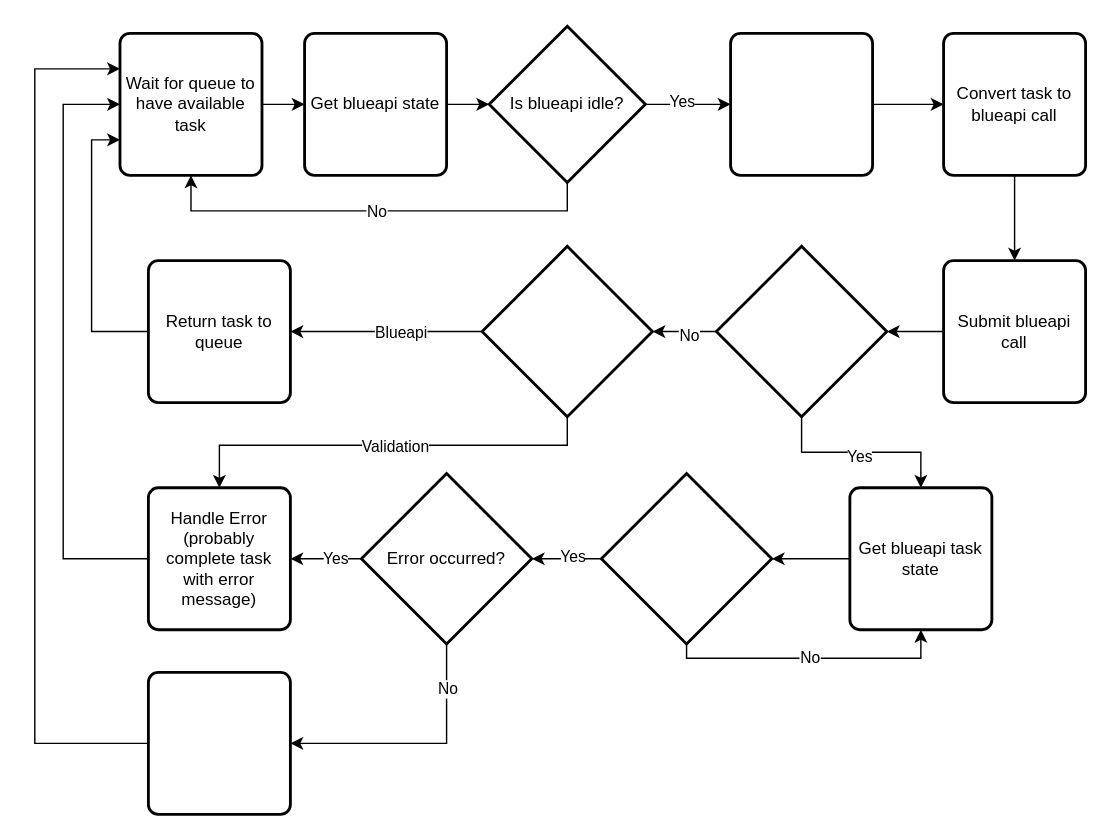
This 1112x839 diagram has some shape labels left out. The box of each missing label's shape, as (x1, y1, x2, y2) in pixels:
Blueapi call submitted successfully?: (714, 244, 888, 417)
Claim task from queue: (728, 31, 873, 176)
Mark task as completed succesfully: (146, 670, 291, 815)
Task completed?: (599, 471, 772, 645)
Validation error or blueapi state error?: (480, 244, 653, 417)
